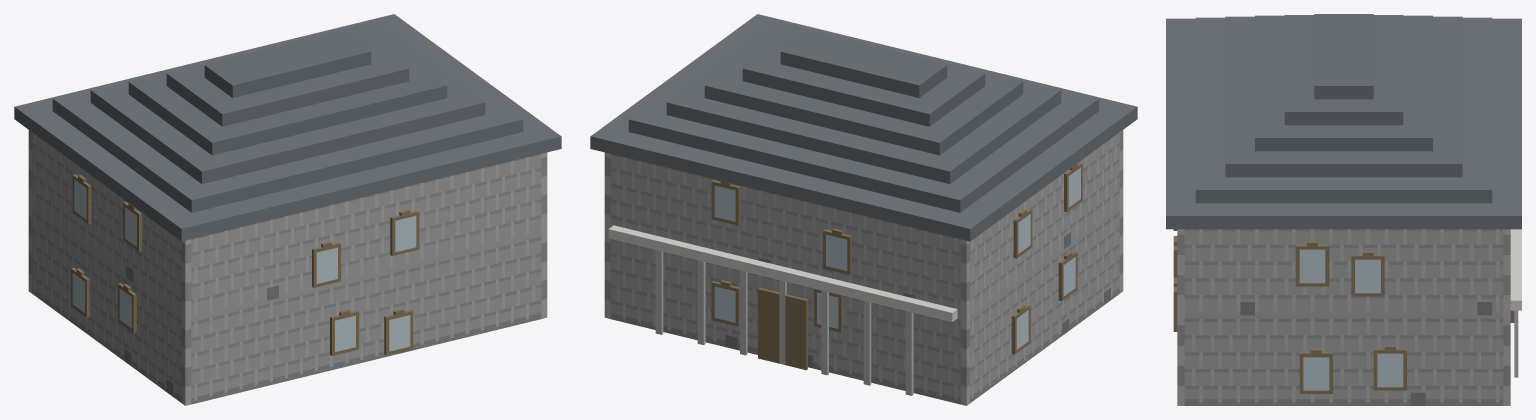
File: museo_04.glb
3 views of the same model, side by side, from view 1: azimuth 30°, elevation 25°; view 2: azimuth 150°, elevation 25°; view 3: azimuth 270°, elevation 25° (orthographic). The views are drawn at different scales.
Parts seen in each view (by area): view 1: museo_04; view 2: museo_04; view 3: museo_04.
Part boxes in pixels (x1,y1,x2,y2): museo_04: [14, 14, 561, 405]; museo_04: [590, 14, 1137, 405]; museo_04: [1166, 14, 1521, 405].
Size of the model in its own units: 12.6 by 7.8 by 9.6.
